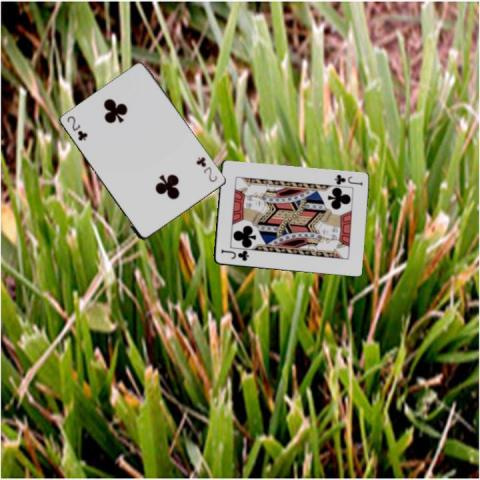2c: (193, 154, 219, 183), (64, 113, 88, 142)
Jc: (218, 247, 250, 263), (332, 172, 364, 187)
